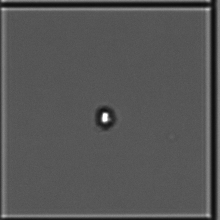Living Cell: (92, 102, 125, 135)
